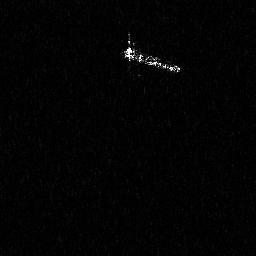ship: (120, 30, 182, 74)
